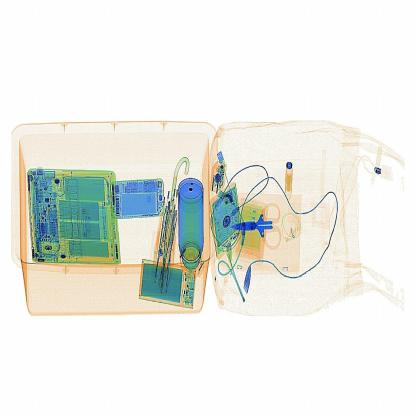gun: (225, 197, 291, 253)
